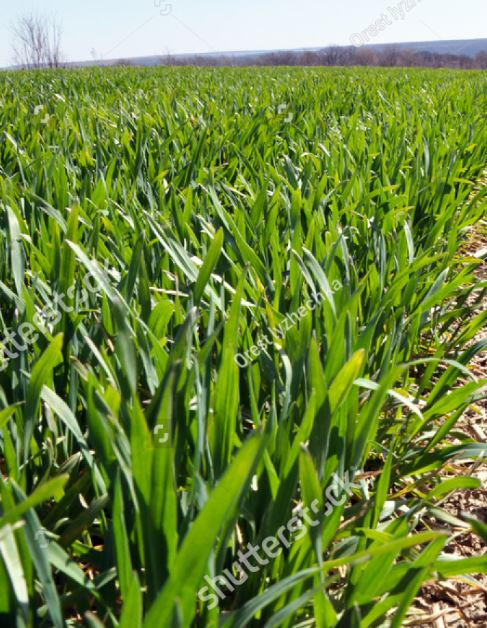Wheat: (23, 191, 401, 605)
